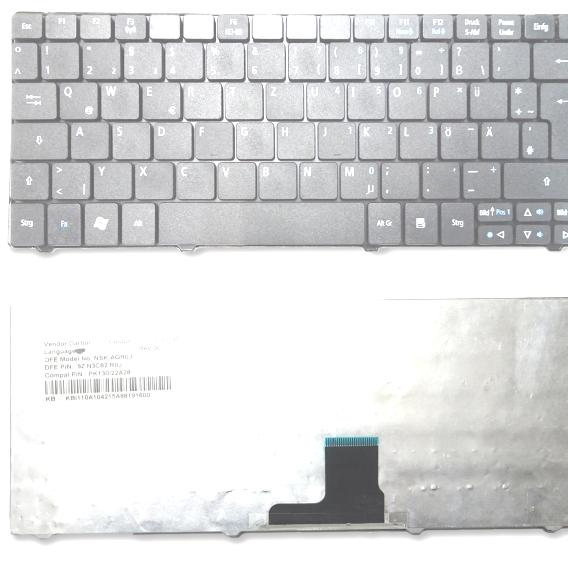0: (409, 41, 448, 81)
1: (40, 42, 80, 81)
2: (81, 41, 122, 81)
3: (122, 41, 163, 80)
4: (164, 41, 203, 80)
5: (204, 42, 245, 80)
6: (246, 41, 286, 81)
7: (287, 41, 326, 81)
8: (328, 41, 367, 81)
9: (369, 41, 408, 81)
a: (70, 121, 110, 160)
accent: (491, 41, 530, 79)
ae: (480, 121, 519, 160)
alt-left: (121, 202, 156, 245)
altgr-right: (366, 201, 402, 245)
b: (257, 160, 297, 200)
c: (174, 160, 216, 200)
caret: (10, 41, 38, 81)
comma: (379, 161, 419, 200)
d: (153, 121, 193, 160)
del: (532, 41, 568, 79)
e: (141, 81, 182, 121)
enter: (539, 82, 568, 160)
f: (193, 120, 234, 160)
g: (234, 120, 275, 160)
h: (275, 121, 316, 160)
hash: (520, 120, 548, 159)
i: (346, 81, 386, 120)
j: (316, 121, 357, 160)
k: (357, 122, 397, 160)
keyboard: (8, 10, 568, 249)
l: (398, 122, 438, 160)
less: (51, 161, 91, 200)
m: (339, 161, 378, 200)
minus: (461, 161, 501, 199)
n: (298, 160, 338, 200)
o: (387, 82, 427, 120)
oe: (439, 122, 478, 160)
p: (427, 81, 467, 120)
plus: (509, 81, 537, 119)
point: (421, 162, 460, 199)
q: (58, 82, 99, 120)
r: (182, 82, 223, 120)
s: (111, 122, 151, 160)
shift-left: (8, 162, 49, 199)
shift-lock: (10, 122, 68, 159)
shift-right: (502, 161, 568, 200)
space: (159, 201, 365, 246)
ss: (450, 41, 489, 80)
strg-left: (9, 202, 44, 247)
strg-right: (440, 201, 475, 245)
t: (223, 81, 264, 120)
tab: (10, 81, 57, 120)
u: (304, 81, 345, 121)
ue: (468, 81, 507, 120)
v: (216, 160, 257, 201)
w: (99, 81, 140, 121)
x: (133, 161, 174, 200)
y: (92, 161, 133, 200)
z: (264, 81, 304, 121)
